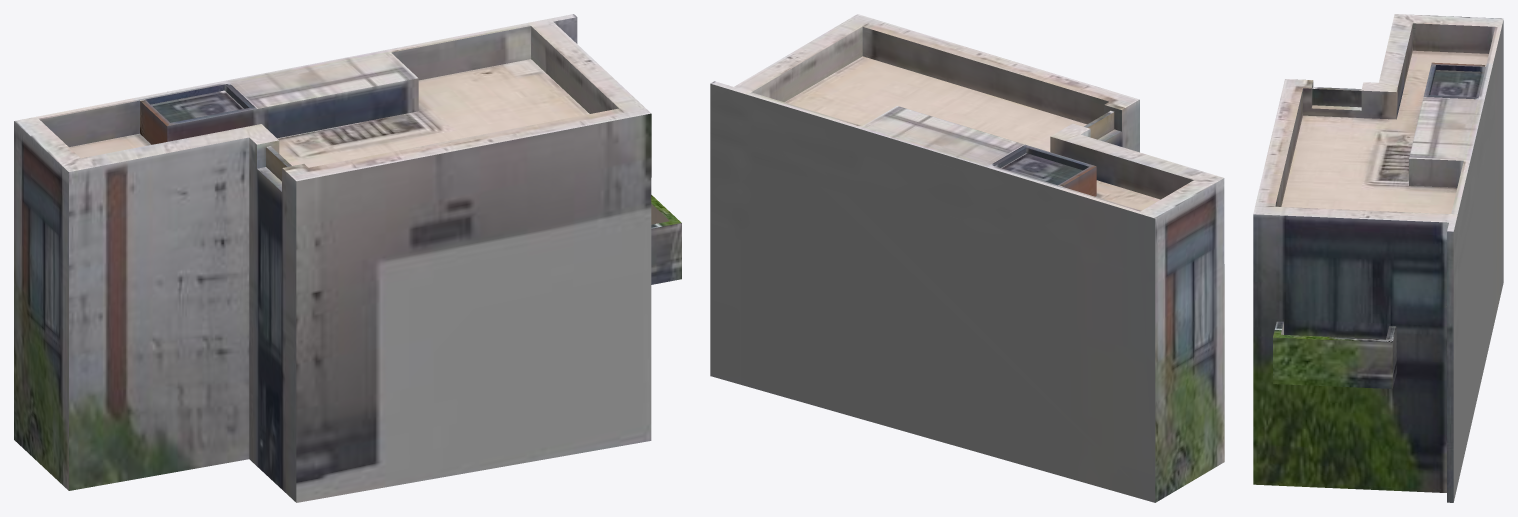
3 views of the same model, side by side, from view 1: azimuth 30°, elevation 25°; view 2: azimuth 150°, elevation 25°; view 3: azimuth 270°, elevation 25° (orthographic). The views are drawn at different scales.
Parts seen in each view (by area): view 1: B286364033801062A0; view 2: B286364033801062A0; view 3: B286364033801062A0.
Part boxes in pixels (left/top/right/bottom): B286364033801062A0: left=14, top=14, right=681, bottom=502; B286364033801062A0: left=710, top=14, right=1224, bottom=502; B286364033801062A0: left=1253, top=14, right=1503, bottom=502.
Bounding box in the file's own units: 16.17 × 9.19 × 7.7.
1 material, 1 textured.
